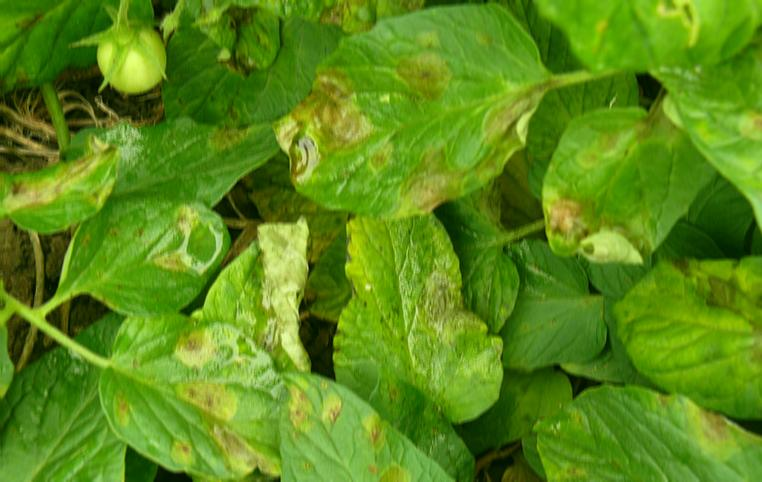Tomato leaf late blight: (277, 0, 549, 235), (252, 324, 590, 482), (297, 193, 489, 455), (529, 67, 716, 303), (78, 299, 312, 482), (601, 241, 762, 430), (40, 189, 235, 329), (527, 367, 762, 482), (0, 120, 134, 242)
